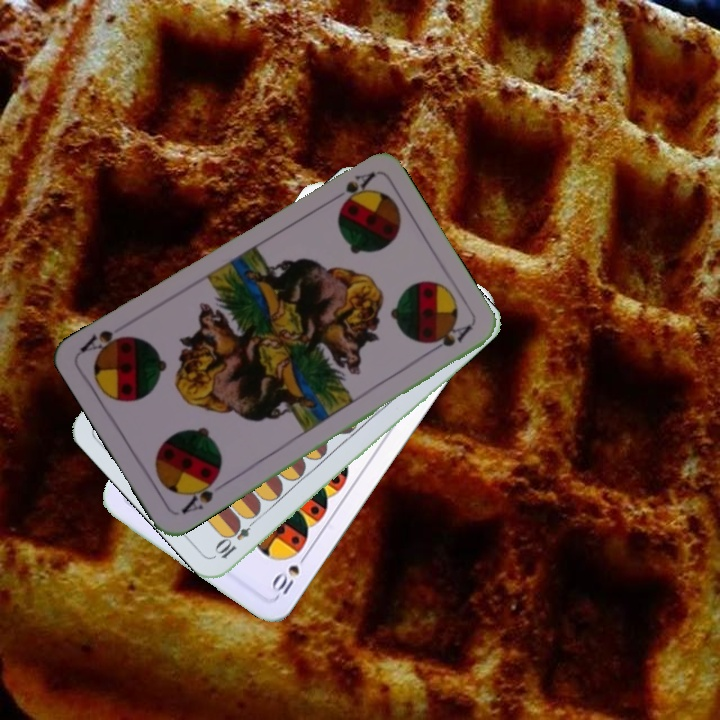E10: (212, 512, 261, 562)
S10: (267, 548, 312, 600)
SA: (177, 471, 227, 517), (325, 168, 378, 207)
